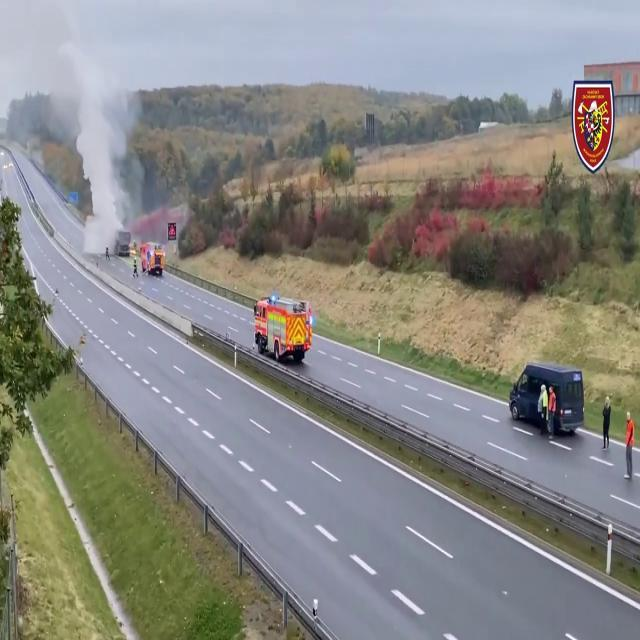Smoke: (0, 0, 162, 244)
